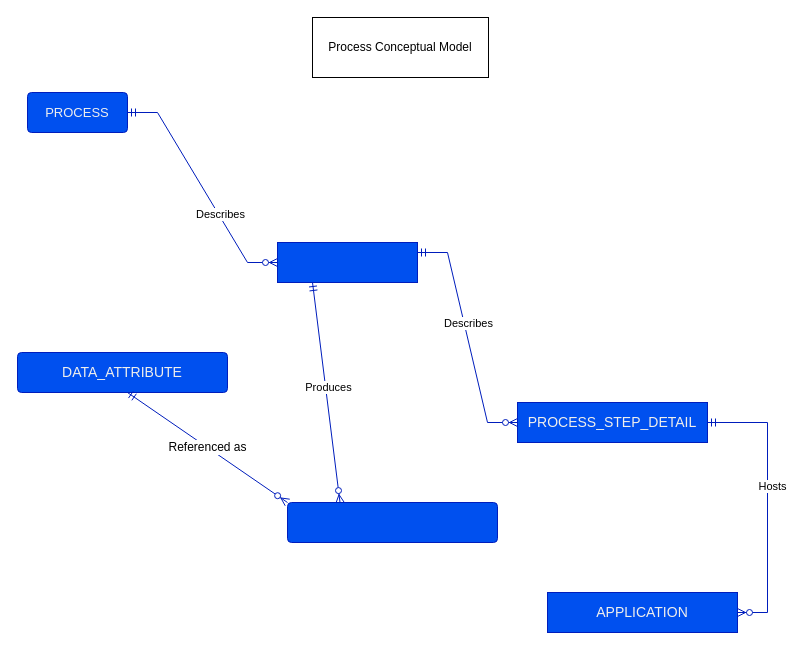
Image size: 803x650. Some labels were removed from this diagram. The shapes that lost their labels are listed below. From the top down, each one's centre as x and y in pixels, then its label:
At (347,262): "PROCESS_STEP".
At (392,522): "PROCESS_STEP_DATA".
